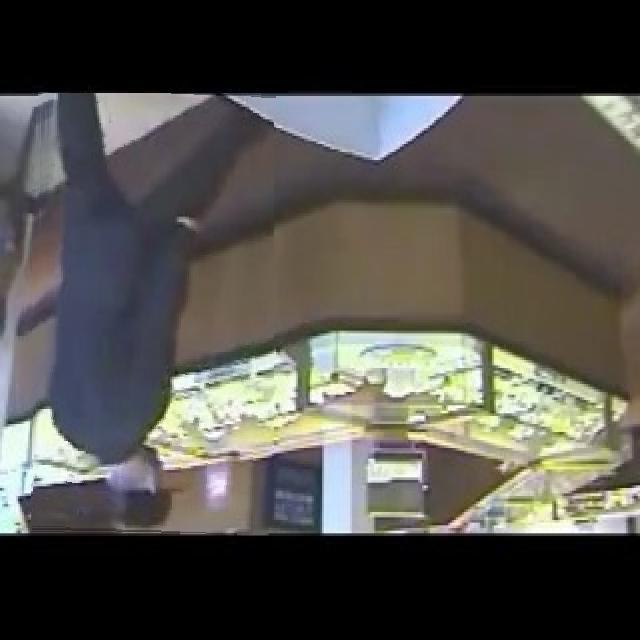normal: (32, 93, 274, 535)
